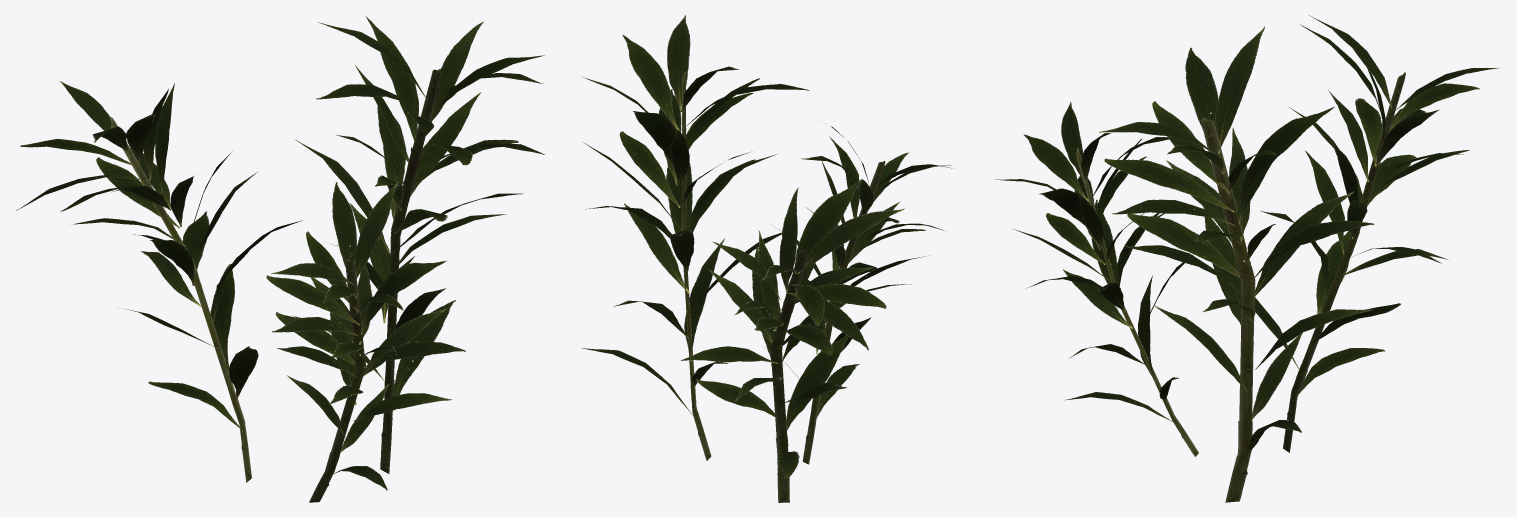
File: GoldenRodLeafClumpHighDetail.fbx
The picture shows the model from 3 angles, left to right: view 1: azimuth 30°, elevation 25°; view 2: azimuth 150°, elevation 25°; view 3: azimuth 270°, elevation 25°; orthographic projection. The views are drawn at different scales.
Parts seen in each view (by area): view 1: _0q80_VarF_LOD3; view 2: _0q80_VarF_LOD3; view 3: _0q80_VarF_LOD3.
Part boxes in pixels (x1,y1,x2,y2): _0q80_VarF_LOD3: (16, 16, 544, 502); _0q80_VarF_LOD3: (582, 15, 953, 502); _0q80_VarF_LOD3: (995, 15, 1500, 502).
Bounding box in the file's own units: 48.29 × 51.8 × 52.87.
